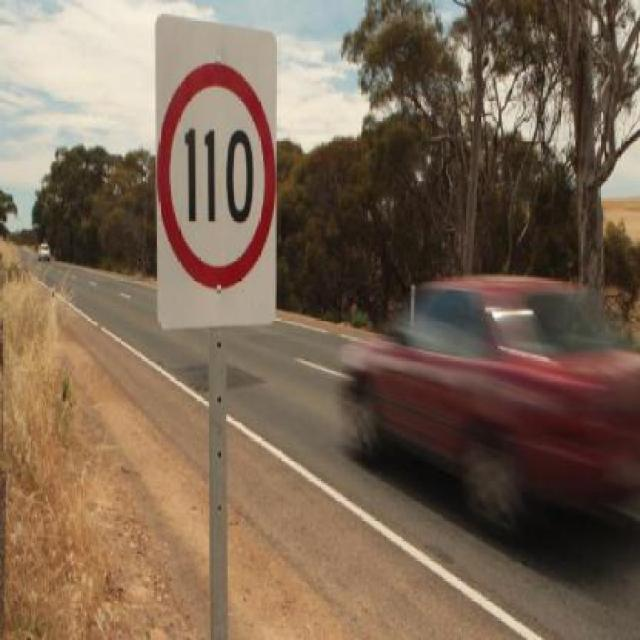speed limit 110: (156, 62, 278, 293)
